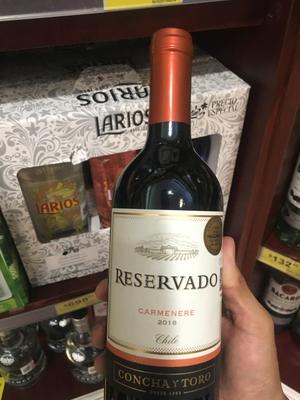reservado carmenere: (104, 27, 220, 399)
